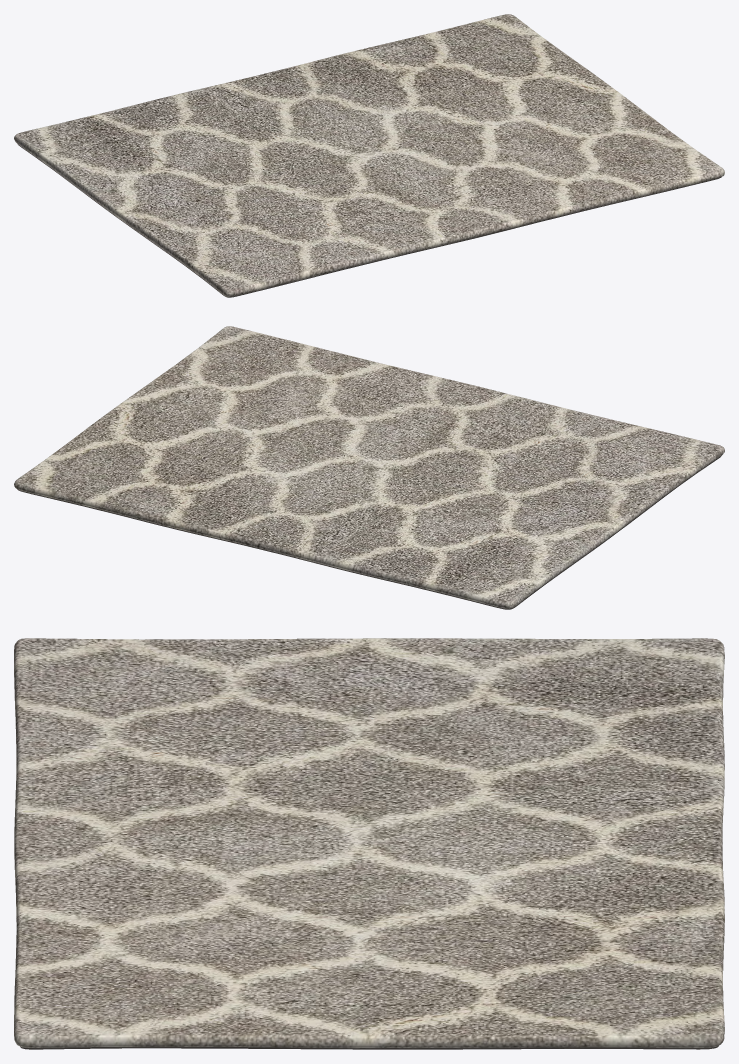
Rendered from B07QBRG2R4.glb.
The picture shows the model from 3 angles, top to bottom: view 1: azimuth 30°, elevation 25°; view 2: azimuth 150°, elevation 25°; view 3: azimuth 270°, elevation 25°; orthographic projection. The views are drawn at different scales.
Visible parts, largest first — view 1: RootNode; view 2: RootNode; view 3: RootNode.
Boxes of the visible parts, bbox=[...] form: RootNode: bbox=[14, 14, 724, 297]; RootNode: bbox=[14, 326, 724, 609]; RootNode: bbox=[14, 638, 724, 1049].
Size of the model in its own units: 1.6 by 0.0252 by 1.2.
1 material, 1 textured.
